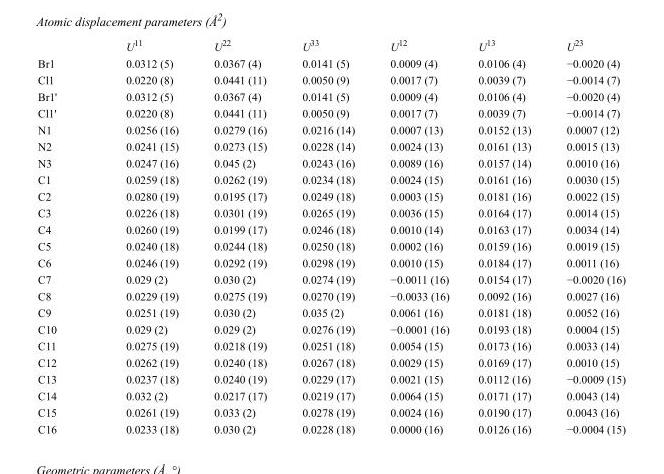table: (37, 37, 624, 434)
table column: (90, 37, 195, 434), (371, 37, 463, 434), (195, 37, 283, 434), (283, 37, 371, 434), (463, 37, 548, 434), (548, 37, 624, 434), (37, 37, 90, 434)
table column header: (37, 37, 624, 54)
table row: (37, 37, 624, 54), (37, 54, 624, 71), (37, 87, 624, 104), (37, 104, 624, 121), (37, 137, 624, 154), (37, 170, 624, 187), (37, 187, 624, 204), (37, 220, 624, 237), (37, 237, 624, 254), (37, 270, 624, 287), (37, 303, 624, 320), (37, 320, 624, 337), (37, 353, 624, 370), (37, 370, 624, 387), (37, 403, 624, 420), (37, 71, 624, 87), (37, 121, 624, 137), (37, 154, 624, 170), (37, 204, 624, 220), (37, 254, 624, 270), (37, 287, 624, 303), (37, 337, 624, 353), (37, 387, 624, 403), (37, 420, 624, 434)
